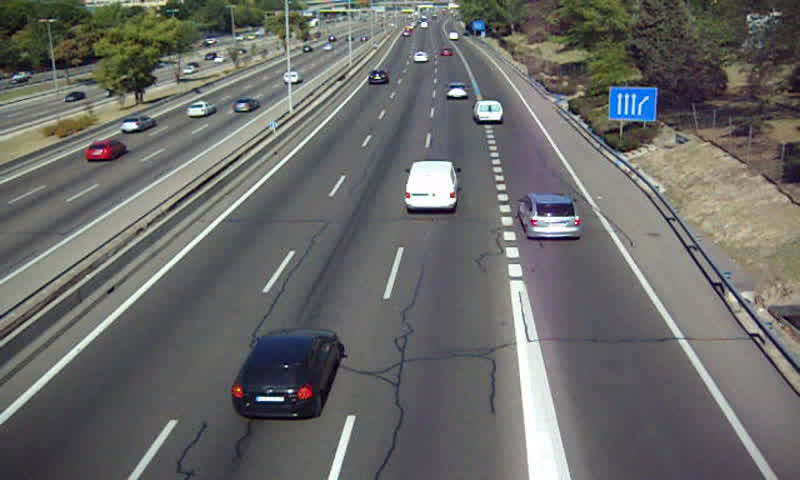car: (234, 328, 340, 417), (520, 194, 582, 239), (444, 82, 470, 101), (368, 69, 389, 86), (411, 49, 429, 62)
van: (406, 162, 457, 213), (473, 101, 504, 124)
